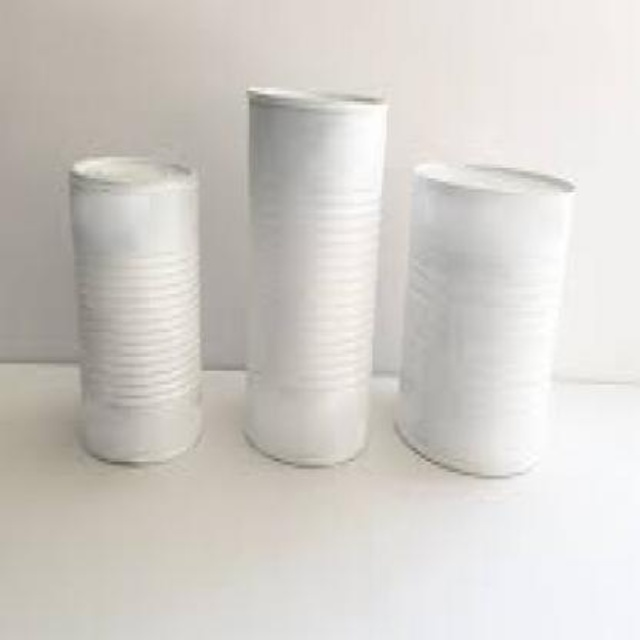trash: (397, 165, 574, 475), (246, 89, 386, 465), (72, 155, 200, 462)
